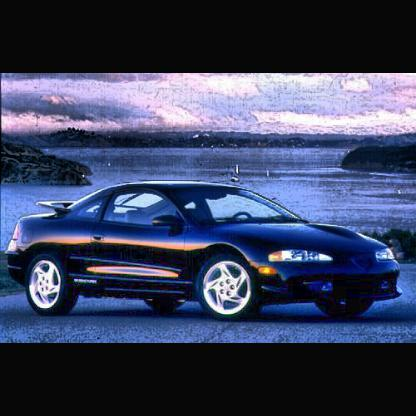Eagle Talon Hatchback 1998: (6, 178, 402, 320)
